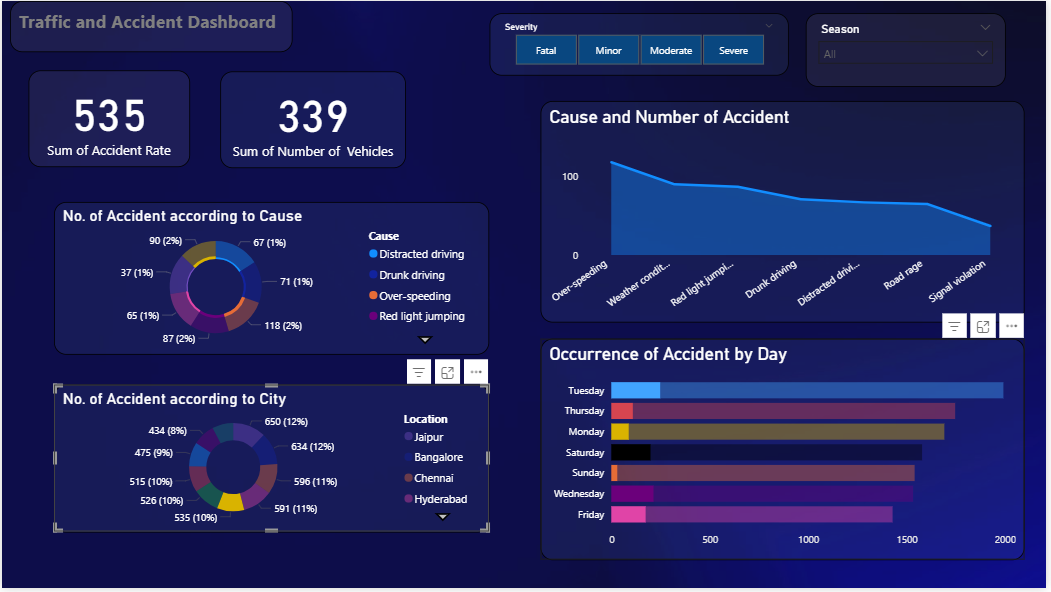

What the dashboard file says about the page in this screenshot:
{"tool":"powerbi","page":{"name":"Page 1","canvas":[1280,720],"ordinal":0},"visuals":[{"type":"textbox","box":[10,0,346.2,62.5],"z":0},{"type":"areaChart","title":"Cause and Number of Accident","fields":{"Category":["traffic_accident_data.Cause"],"Y":["Sum(traffic_accident_data.Accident_Rate)"]},"box":[660,122.2,593.3,271.1],"z":1000},{"type":"barChart","title":"Occurrence of Accident by Day","fields":{"Category":["traffic_accident_data.Day_of_Week"],"Y":["Sum(traffic_accident_data.Hour_of_Day)"]},"box":[660,413.3,593.3,271.1],"z":2000},{"type":"donutChart","title":"No. of Accident according to City","fields":{"Y":["Sum(traffic_accident_data.Accident_Rate)"],"Category":["traffic_accident_data.Location"]},"box":[63.8,470,533.8,181.2],"z":3000},{"type":"donutChart","title":"No. of Accident according to Cause","fields":{"Y":["Sum(traffic_accident_data.Accident_Rate)"],"Series":["traffic_accident_data.Cause"]},"box":[63.8,246.2,533.8,187.5],"z":4000},{"type":"card","fields":{"Values":["Sum(traffic_accident_data.Accident_Rate)"]},"box":[32.2,85.6,197.8,118.9],"z":5000},{"type":"card","fields":{"Values":["Sum(traffic_accident_data.Number_of_Vehicles)"]},"box":[267.8,86.7,227.8,118.9],"z":6000},{"type":"slicer","fields":{"Values":["traffic_accident_data.Severity"]},"box":[597.5,15,366.2,76.2],"z":7000},{"type":"slicer","fields":{"Values":["traffic_accident_data.Season"]},"box":[985,15,245,90],"z":8000}]}

Visuals, with their boxes in screenshot pixels (x1, y1, x2, y2), scaled from the page's 1280x720 canvas onto the 1051x592 screenshot:
textbox: 8,0,292,51
"Cause and Number of Accident" areaChart: 542,100,1029,323
"Occurrence of Accident by Day" barChart: 542,340,1029,563
"No. of Accident according to City" donutChart: 52,386,491,535
"No. of Accident according to Cause" donutChart: 52,202,491,357
card - Sum(traffic_accident_data.Accident_Rate): 26,70,189,168
card - Sum(traffic_accident_data.Number_of_Vehicles): 220,71,407,169
slicer - traffic_accident_data.Severity: 491,12,791,75
slicer - traffic_accident_data.Season: 809,12,1010,86
